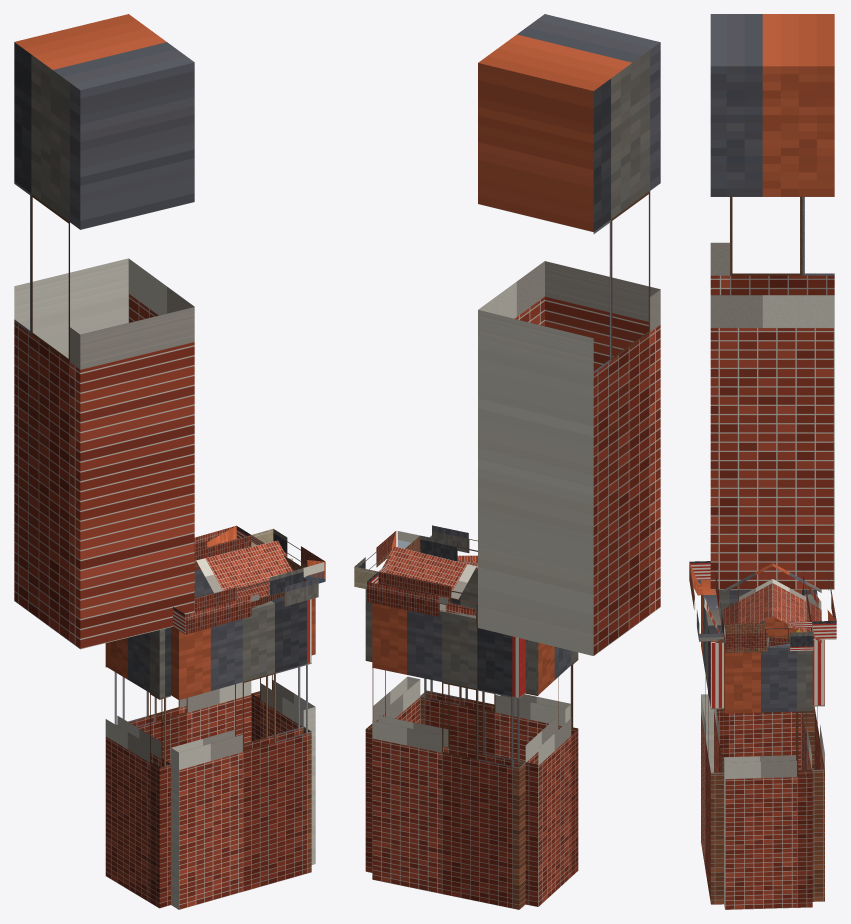
3 renders of one model, left to right at view 1: azimuth 30°, elevation 25°; view 2: azimuth 150°, elevation 25°; view 3: azimuth 270°, elevation 25°, orthographic. The views are drawn at different scales.
Parts seen in each view (by area): view 1: 1241125014__chimney_0_xb, 1241125014__wall_1_xb, 1241125014__wall_2_xb, 1241125014__wall_3_xb, 1241125014__cornice_1, 1241125014_roof_-1_xb, 1241125014__wall_0_xb, 1241125014__cornice_3, 1241125014__cornice_0; view 2: 1241125014__chimney_0_xb, 1241125014__wall_3_xb, 1241125014__wall_2_xb, 1241125014__wall_1_xb, 1241125014__wall_0_xb, 1241125014__cornice_3, 1241125014_roof_1_xb, 1241125014__cornice_1, 1241125014__cornice_0; view 3: 1241125014__chimney_0_xb, 1241125014__wall_0_xb, 1241125014__wall_1_xb, 1241125014__wall_2_xb, 1241125014__wall_3_xb, 1241125014__cornice_0, 1241125014_roof_1_xb, 1241125014_roof_-1_xb, 1241125014__cornice_1, 1241125014__cornice_3.
Boxes of the visible parts, x1,y1,x2,y2 form: 1241125014__chimney_0_xb: (14,14,194,649); 1241125014__wall_1_xb: (171,596,311,909); 1241125014__wall_2_xb: (105,627,170,908); 1241125014__wall_3_xb: (114,569,251,763); 1241125014__cornice_1: (173,568,318,634); 1241125014_roof_-1_xb: (195,540,292,600); 1241125014__wall_0_xb: (251,578,315,864); 1241125014__cornice_3: (194,525,251,570); 1241125014__cornice_0: (251,528,325,583); 1241125014__chimney_0_xb: (478,14,660,655); 1241125014__wall_3_xb: (372,603,525,909); 1241125014__wall_2_xb: (525,639,578,906); 1241125014__wall_1_xb: (420,560,570,761); 1241125014__wall_0_xb: (365,589,420,872); 1241125014__cornice_3: (366,571,477,624); 1241125014_roof_1_xb: (382,546,477,611); 1241125014__cornice_1: (420,525,477,566); 1241125014__cornice_0: (354,531,420,589); 1241125014__chimney_0_xb: (710,14,834,589); 1241125014__wall_0_xb: (724,643,812,909); 1241125014__wall_1_xb: (701,579,723,904); 1241125014__wall_2_xb: (716,589,801,770); 1241125014__wall_3_xb: (801,589,824,901); 1241125014__cornice_0: (724,621,813,652); 1241125014_roof_1_xb: (772,563,821,642); 1241125014_roof_-1_xb: (723,563,772,633); 1241125014__cornice_1: (689,561,723,642); 1241125014__cornice_3: (803,571,836,639).
Size of the model in its own units: 0.3321 by 1.05 by 0.1784.
Materials: 1 (1 with a texture image).
